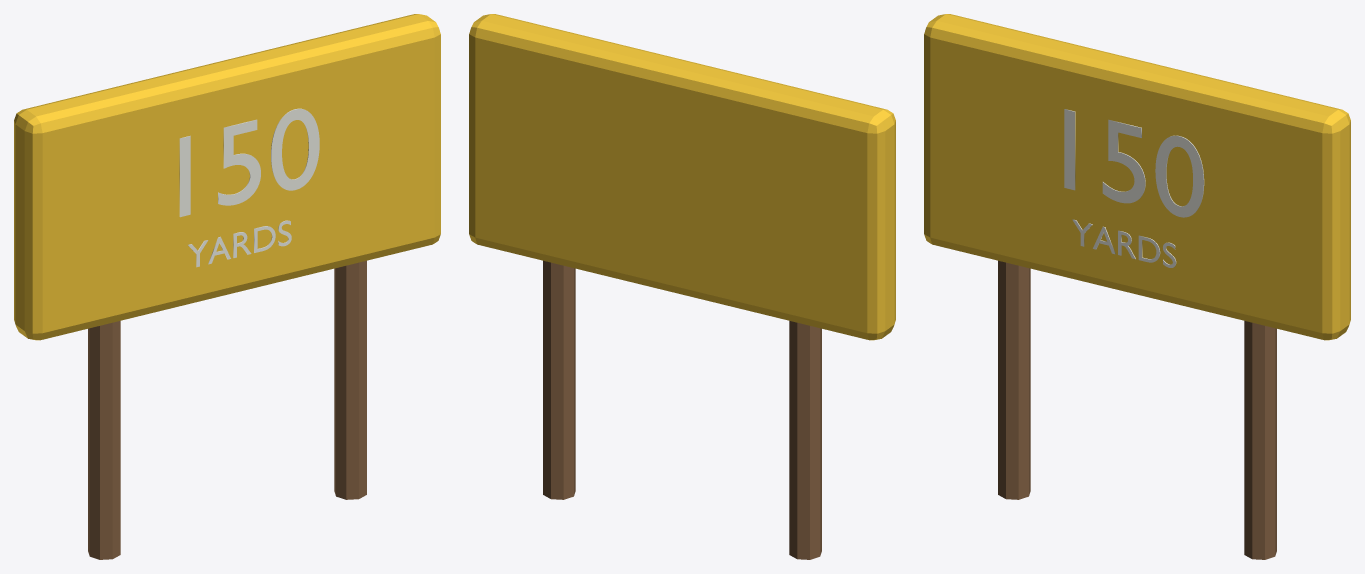
The model's file is distance-marker-150.glb.
3 views of the same model, side by side, from view 1: azimuth 30°, elevation 25°; view 2: azimuth 150°, elevation 25°; view 3: azimuth 330°, elevation 25° (orthographic).
Visible parts, largest first — view 1: Board.002, Post.004, Post.005, Yardage.002, Unit.002; view 2: Board.002, Post.004, Post.005; view 3: Board.002, Post.005, Post.004, Yardage.002, Unit.002.
Part boxes in pixels (box(x1,y1,x2,y2)): Board.002: box(14, 14, 440, 340); Post.004: box(88, 321, 120, 559); Post.005: box(334, 260, 366, 499); Yardage.002: box(179, 108, 319, 217); Unit.002: box(188, 220, 291, 267); Board.002: box(469, 14, 895, 340); Post.004: box(789, 321, 821, 559); Post.005: box(543, 260, 575, 499); Board.002: box(924, 14, 1350, 340); Post.005: box(1244, 321, 1276, 559); Post.004: box(998, 260, 1030, 499); Yardage.002: box(1064, 109, 1204, 217); Unit.002: box(1072, 219, 1176, 267).
Bounding box in the file's own units: 1.28 × 1.35 × 0.129.
